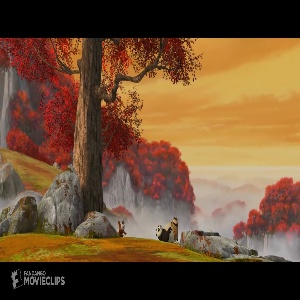po: (154, 213, 180, 242)
shifu: (118, 219, 129, 237)
